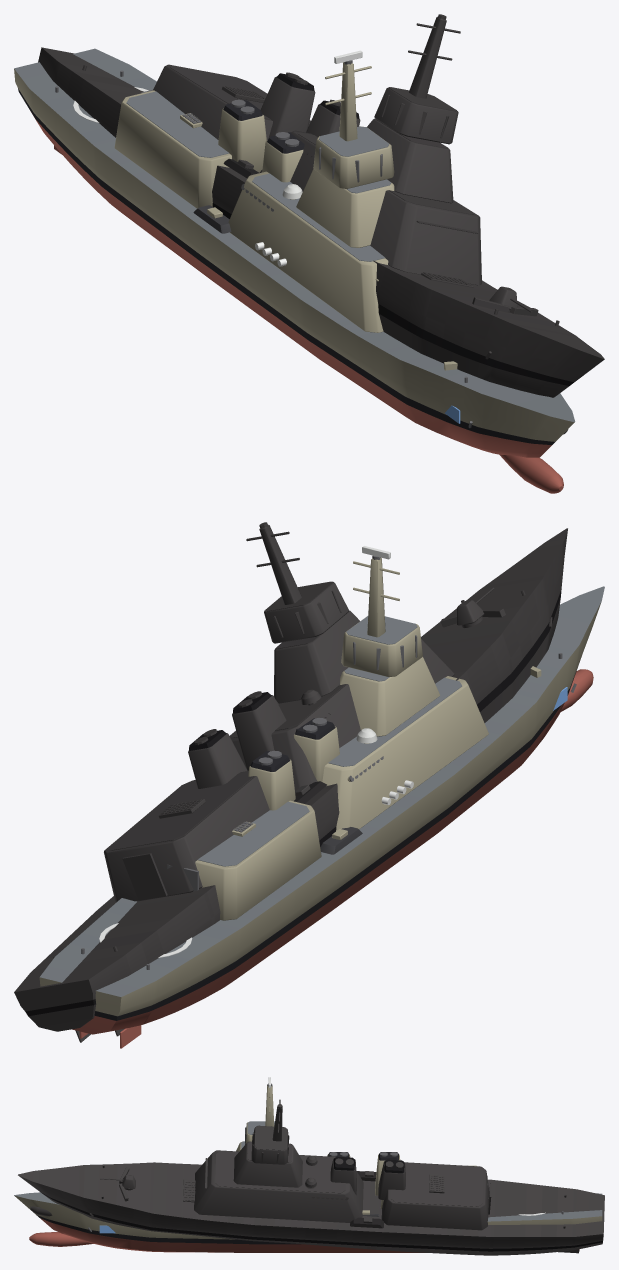
The model's file is corvette__sa_ar_6.glb.
3 views of the same model, one above another, from view 1: azimuth 30°, elevation 25°; view 2: azimuth 150°, elevation 25°; view 3: azimuth 270°, elevation 25° (orthographic). The views are drawn at different scales.
Visible parts, largest first — view 1: Hull_Mesh, Wreck; view 2: Hull_Mesh, Wreck; view 3: Wreck, Hull_Mesh.
Part boxes in pixels (x1,y1,x2,y2): Hull_Mesh: [14, 48, 575, 493]; Wreck: [38, 14, 604, 434]; Hull_Mesh: [39, 557, 604, 1048]; Wreck: [14, 522, 567, 1042]; Wreck: [18, 1099, 604, 1255]; Hull_Mesh: [14, 1085, 602, 1252].
Size of what is drawn, in the model's own units: 19.04 by 30.14 by 94.22.
